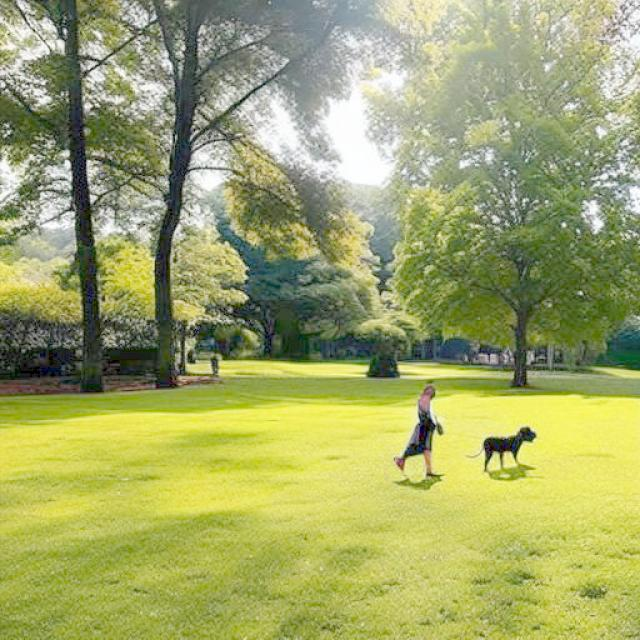Unleashed_Dog: (393, 423, 540, 479)
